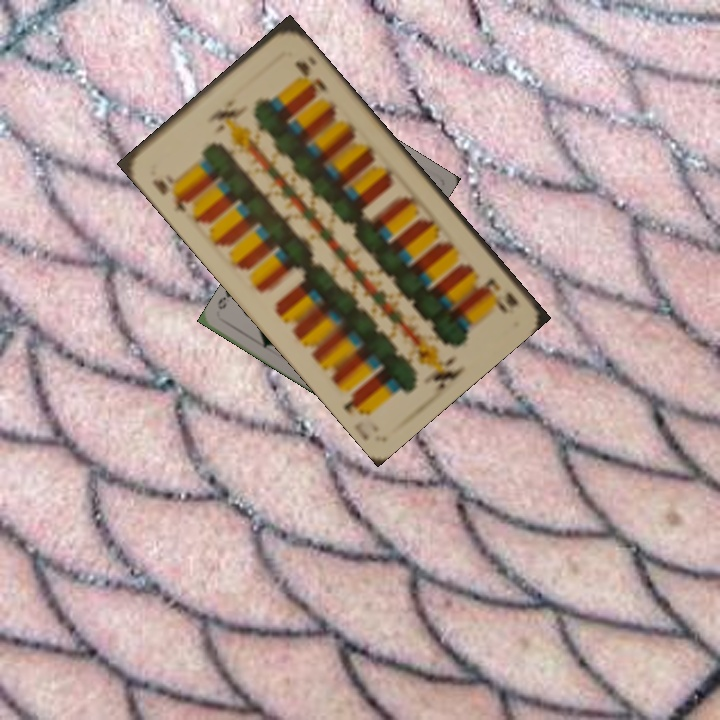E10: (148, 170, 194, 215), (478, 273, 521, 316)
